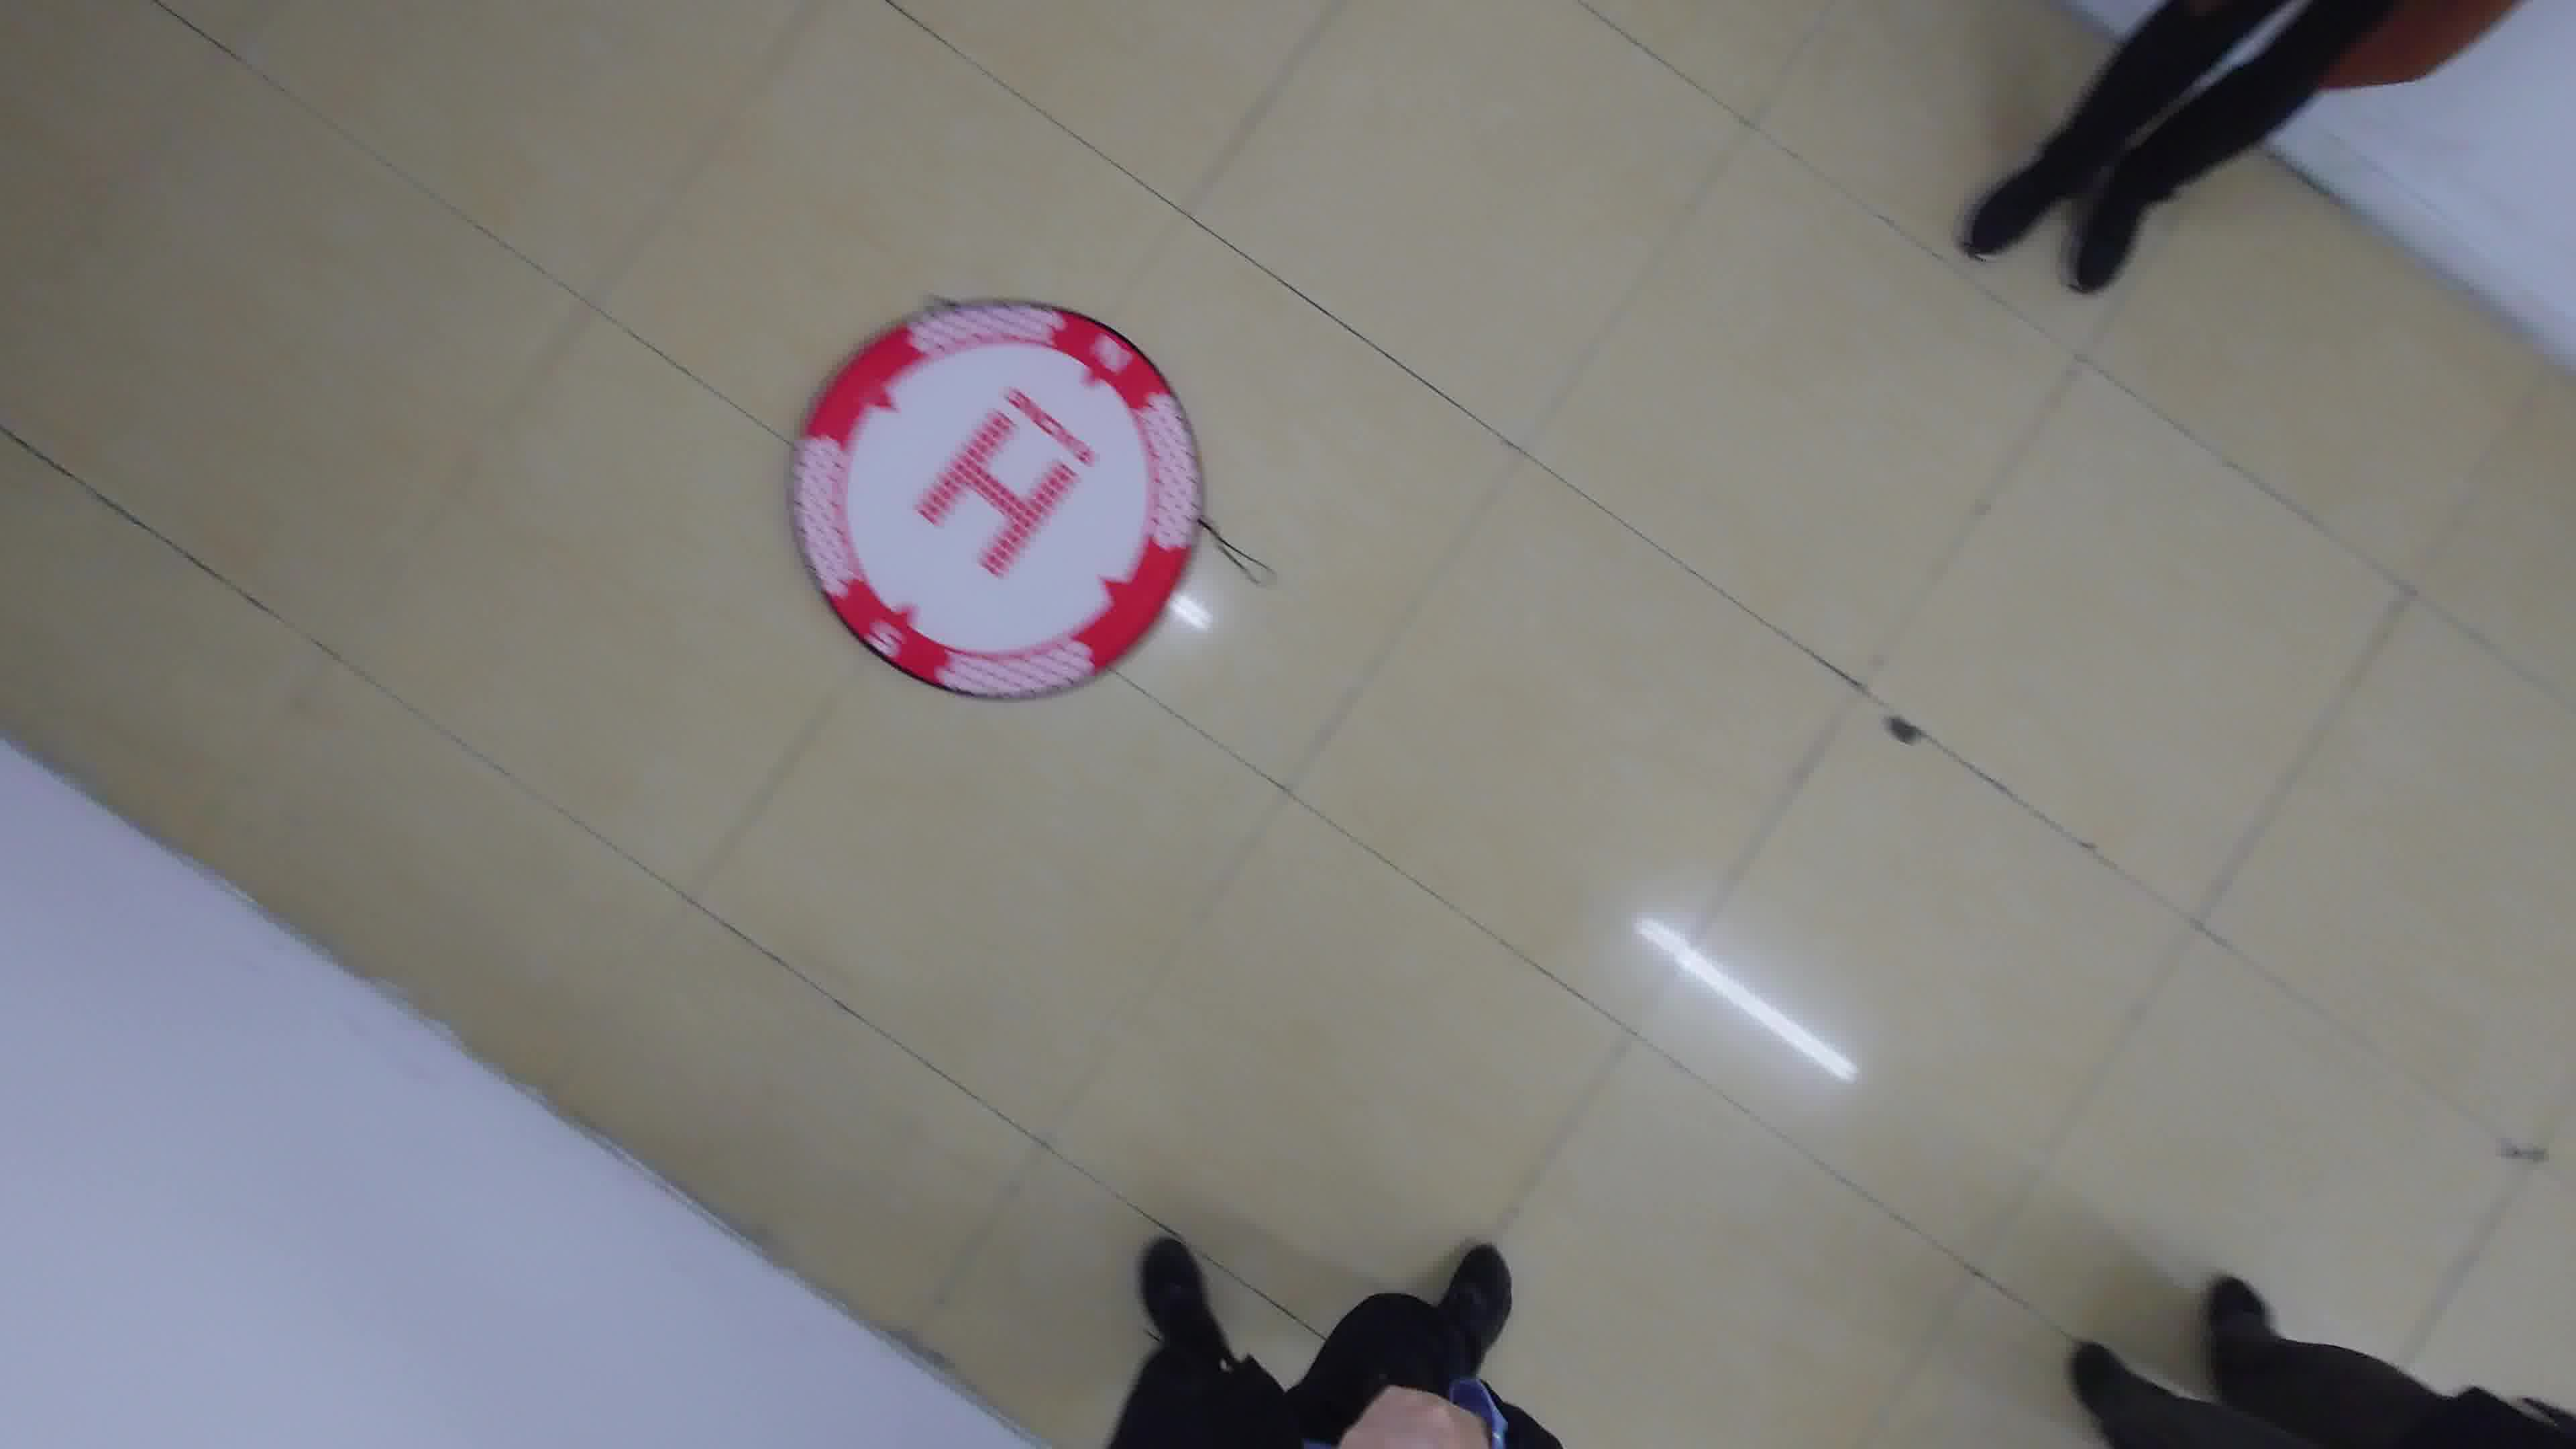H: (915, 410, 1079, 580)
